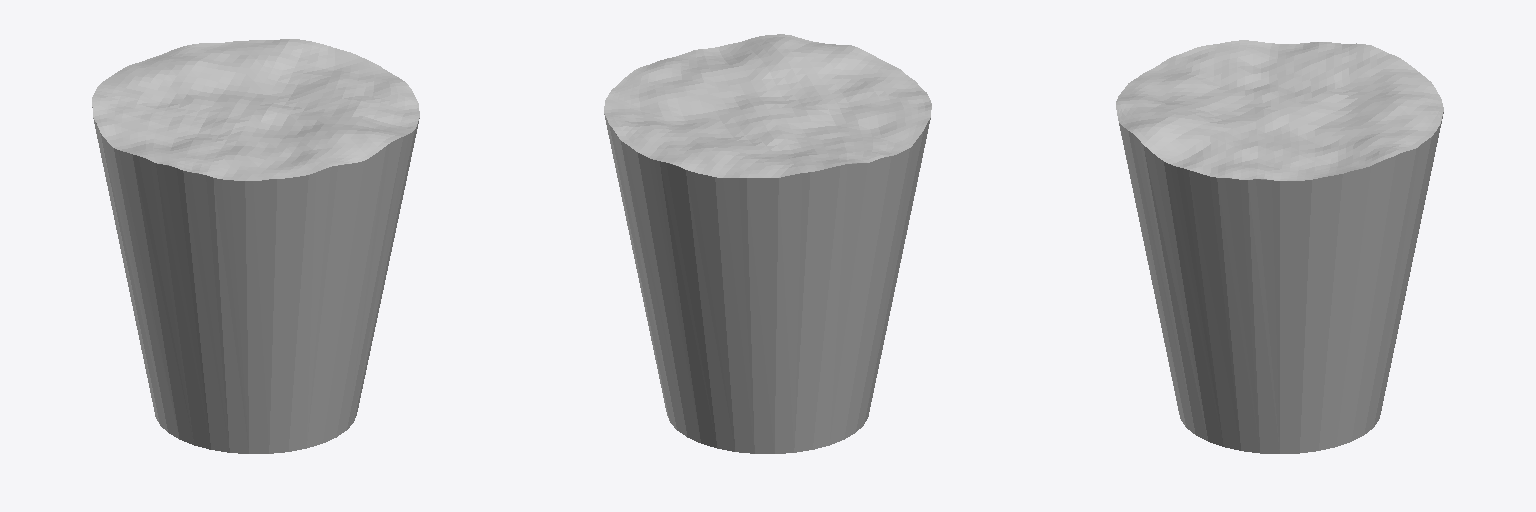
The model's file is glasswater2.obj.
The picture shows the model from 3 angles: view 1: azimuth 30°, elevation 25°; view 2: azimuth 150°, elevation 25°; view 3: azimuth 270°, elevation 25°; orthographic projection.
Visible parts, largest first — view 1: Circle; view 2: Circle; view 3: Circle.
Boxes of the visible parts, box(x1,y1,x2,y2) form: Circle: box(92, 39, 419, 453); Circle: box(604, 34, 931, 453); Circle: box(1116, 40, 1443, 453).
Size of the model in its own units: 2.4 by 2.51 by 2.4.